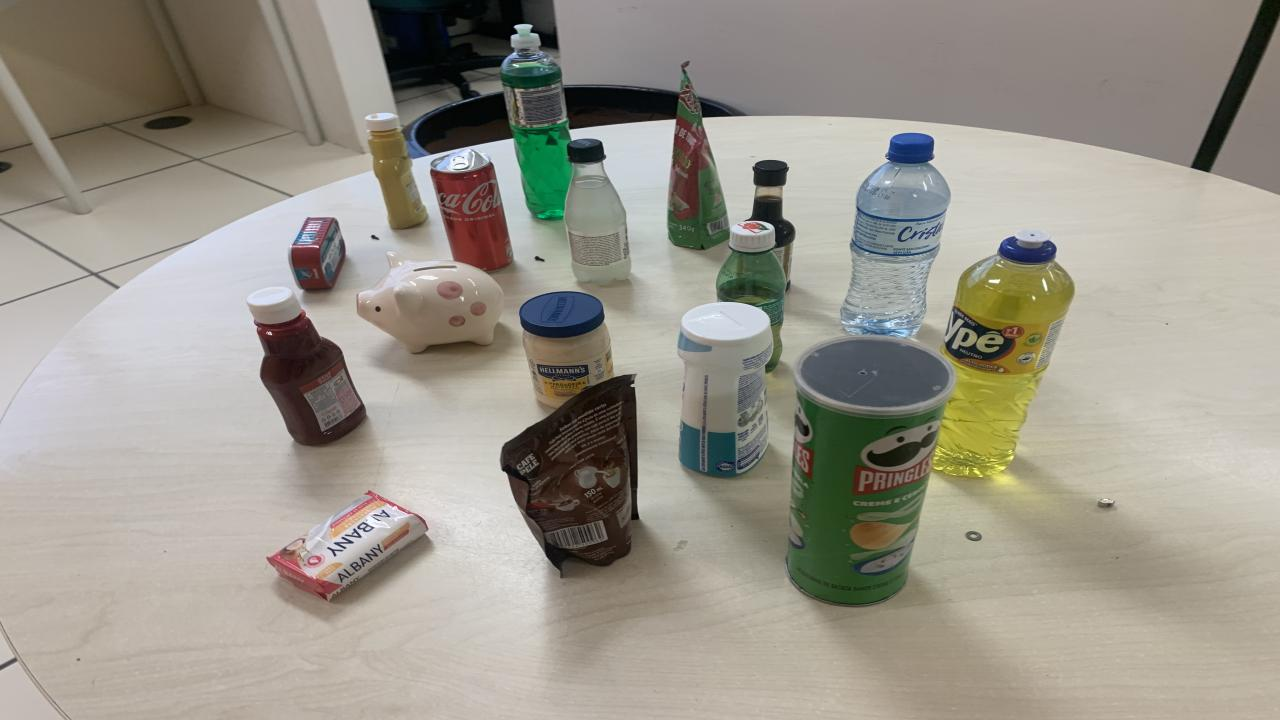Cleaner-Cleanup_Items: (678, 302, 772, 476)
Coffee-Pantry_Items: (500, 377, 638, 568)
Coke-Drinks: (430, 148, 512, 272)
Detergent-Cleanup_Items: (935, 231, 1075, 476), (500, 24, 572, 219)
English_Sauce-Pantry_Items: (750, 159, 795, 289)
Guarana-Drinks: (715, 219, 788, 371)
Ketchup-Pantry_Items: (248, 287, 365, 444)
Mayonnaise-Pantry_Items: (520, 291, 612, 407)
Mustard-Pantry_Items: (365, 112, 428, 229)
Pig_Safe-Miscellaneous: (358, 251, 502, 352)
Pringles-Snacks: (788, 336, 955, 606)
Soap-Cleanup_Items: (268, 493, 428, 600)
Soda-Drinks: (565, 139, 630, 285)
Tomato_Sauce-Pantry_Items: (668, 62, 730, 249)
Tuna_Can-Pantry_Items: (288, 218, 345, 291)
Water_Bottle-Drinks: (840, 133, 950, 338)
